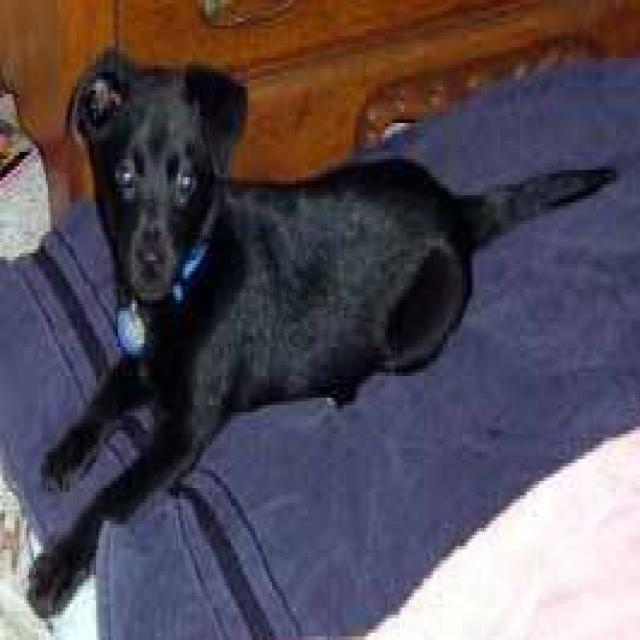dog: (24, 47, 616, 618)
